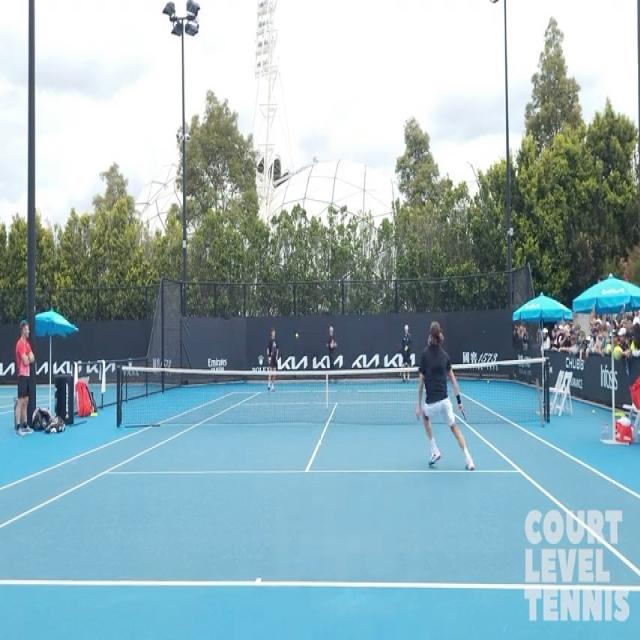ready-position: (406, 309, 476, 468)
